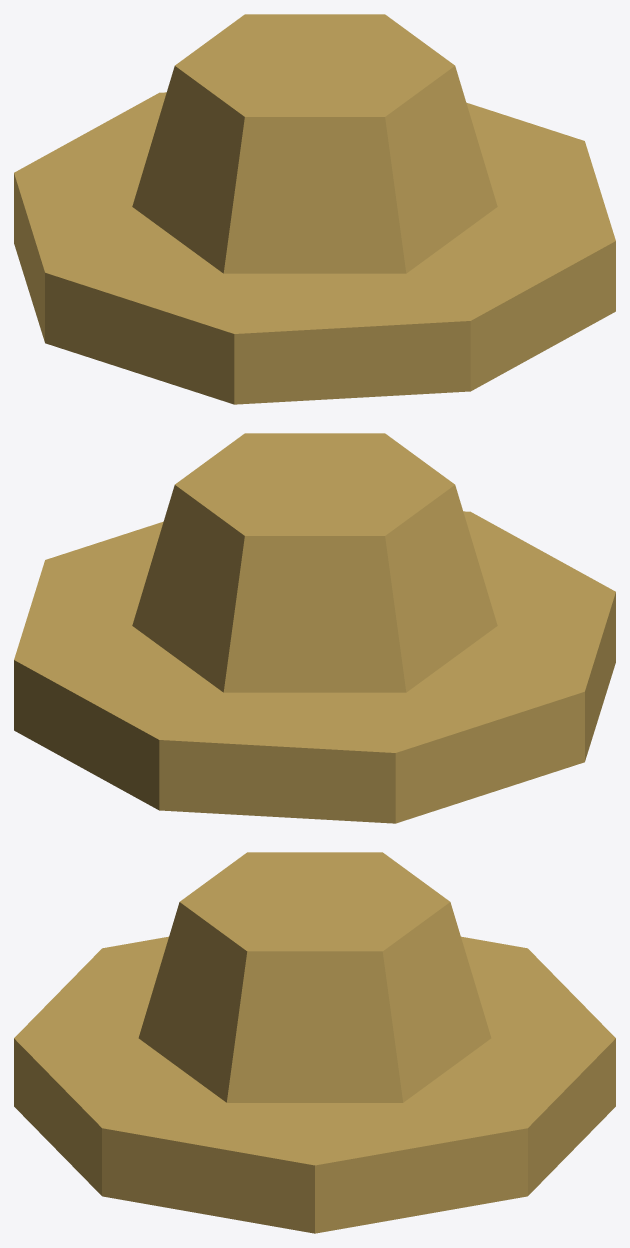
The model's file is acc_hat_farmer.glb.
The picture shows the model from 3 angles, top to bottom: view 1: azimuth 30°, elevation 25°; view 2: azimuth 150°, elevation 25°; view 3: azimuth 270°, elevation 25°; orthographic projection. The views are drawn at different scales.
Visible parts, largest first — view 1: acc_hat_farmer; view 2: acc_hat_farmer; view 3: acc_hat_farmer.
Boxes of the visible parts, bbox=[...] form: acc_hat_farmer: bbox=[14, 14, 615, 404]; acc_hat_farmer: bbox=[14, 433, 615, 823]; acc_hat_farmer: bbox=[14, 852, 615, 1233].
Bounding box in the file's own units: 0.8 × 0.3 × 0.8.
1 material, 1 textured.
